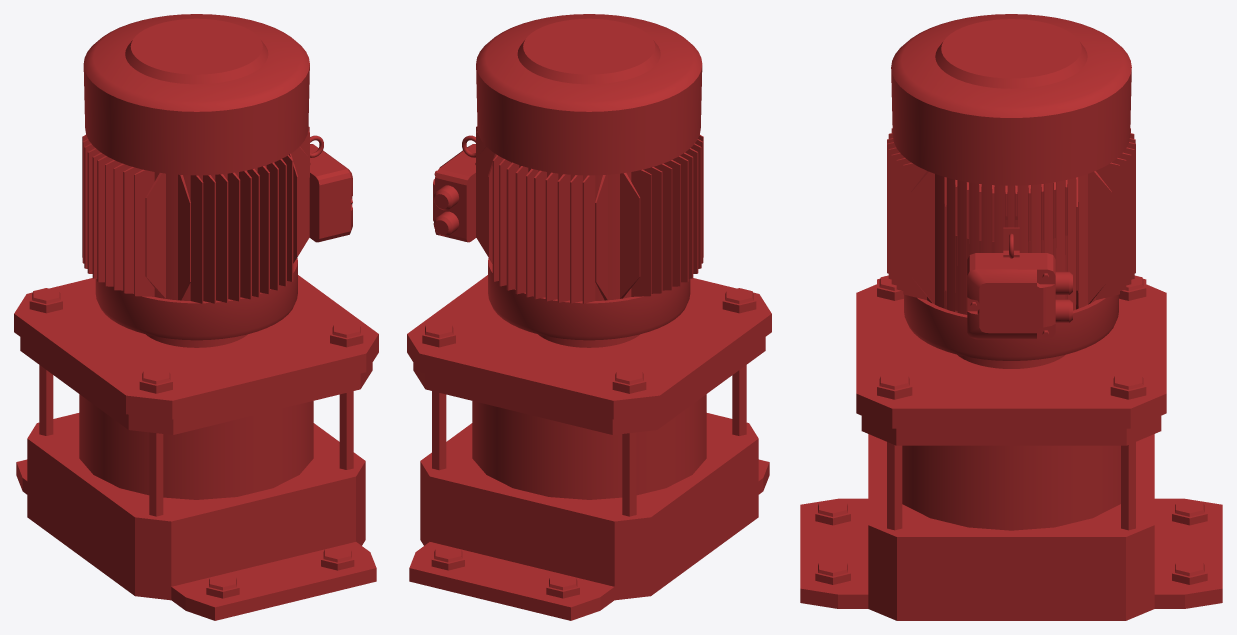
The model's file is Pump-Sec.fbx.
The picture shows the model from 3 angles, left to right: view 1: azimuth 30°, elevation 25°; view 2: azimuth 150°, elevation 25°; view 3: azimuth 270°, elevation 25°; orthographic projection. The views are drawn at different scales.
Visible parts, largest first — view 1: Pump-Sec_Red; view 2: Pump-Sec_Red; view 3: Pump-Sec_Red.
Part boxes in pixels (box(x1,y1,x2,y2)): Pump-Sec_Red: box(14, 14, 378, 620); Pump-Sec_Red: box(407, 14, 771, 620); Pump-Sec_Red: box(800, 14, 1222, 620).
Bounding box in the file's own units: 26.98 × 46.49 × 34.73.
